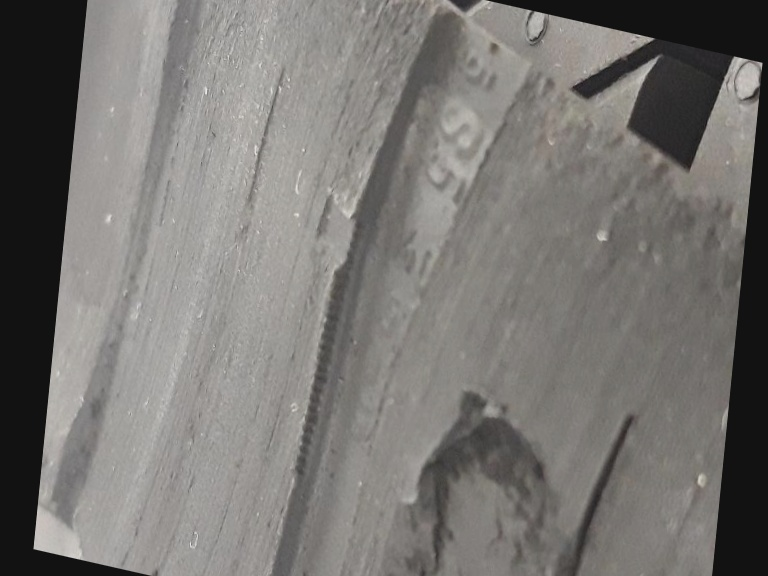temoin:0: (297, 176, 374, 299)
